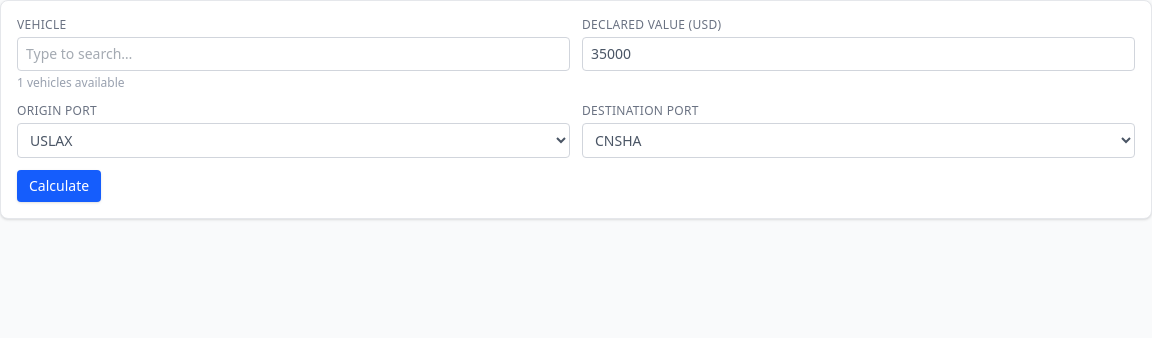
Test: CalculatorForm › blocks submit when no vehicle is selected (validation state)
This screenshot has width=1152, height=338.
What coordinates should you click on to do the following:
click the button "Calculate"
I would click on:
 (59, 186)
Its box is [17,170,101,202].
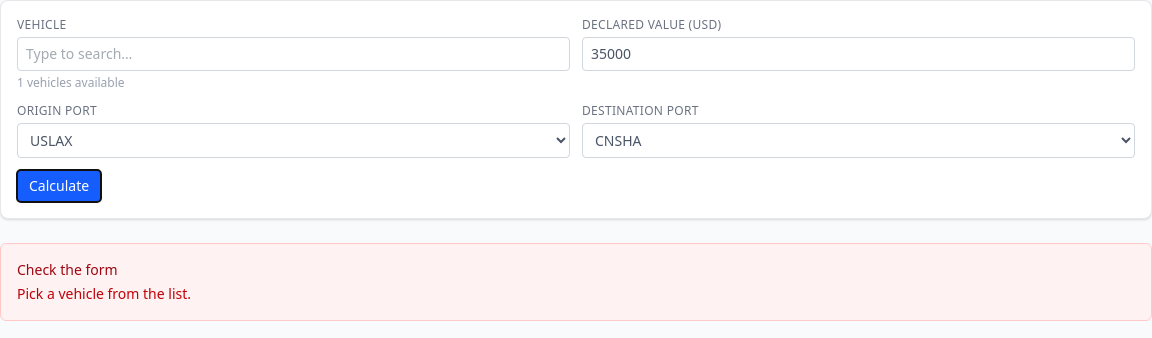
Expected: the message with test id "error-state" shows "Pick a vehicle", [17,284,191,303]
